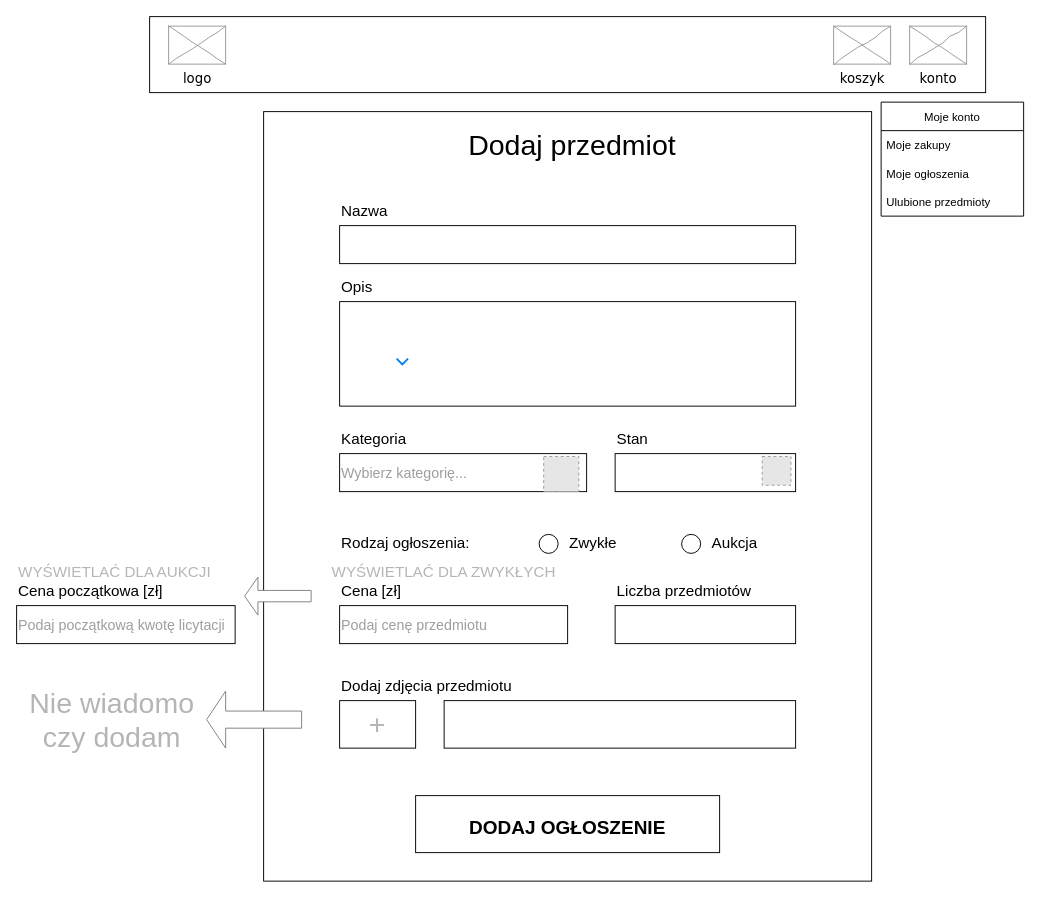
The diagram is 1040 pixels wide and 898 high, and some of its shapes have lost their labels. Grey dashed boxes stand in for pictures. The box of each missing label's shape, as (x1, y1, x2, y2) in pixels:
Określ stan: (614, 453, 796, 492)
Podaj kupującym więcej szczegółów na temat ogłoszenia.: (339, 301, 796, 406)
Podaj liczbę sztuk: (614, 605, 796, 644)
Podaj nazwę przedmiotu [max X znaków]: (339, 225, 796, 264)
Podgląd zdjęć: (443, 700, 796, 748)
